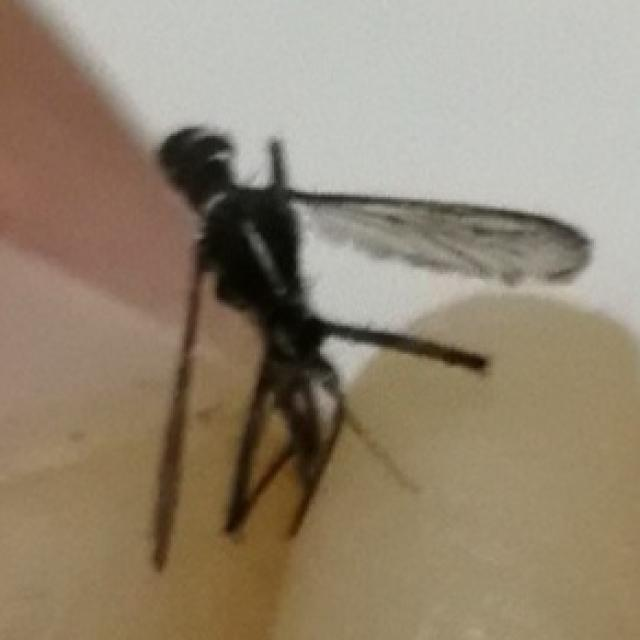albopictus: (103, 89, 539, 586)
